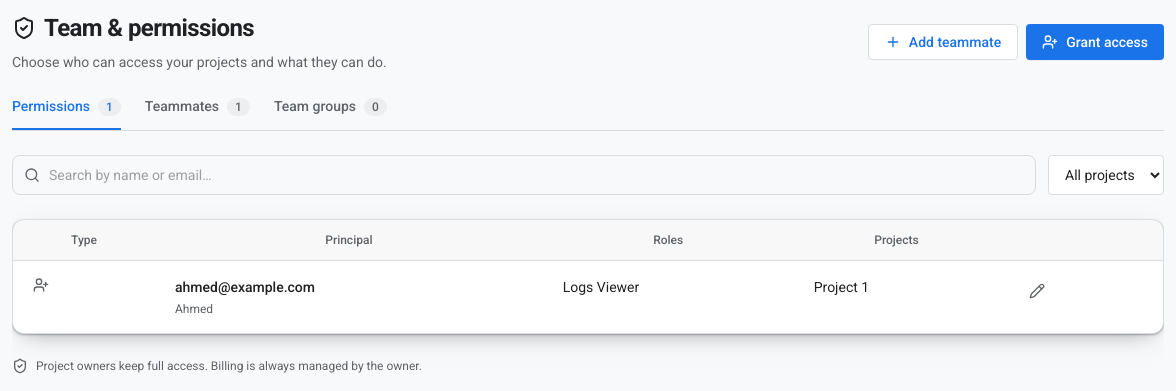
Scenario: Project Access › does not allow customer password resets for shared accounts
The width and height of the screenshot is (1176, 391).
Click the tab "Teammates1" at (197, 113), box [145, 96, 250, 130]
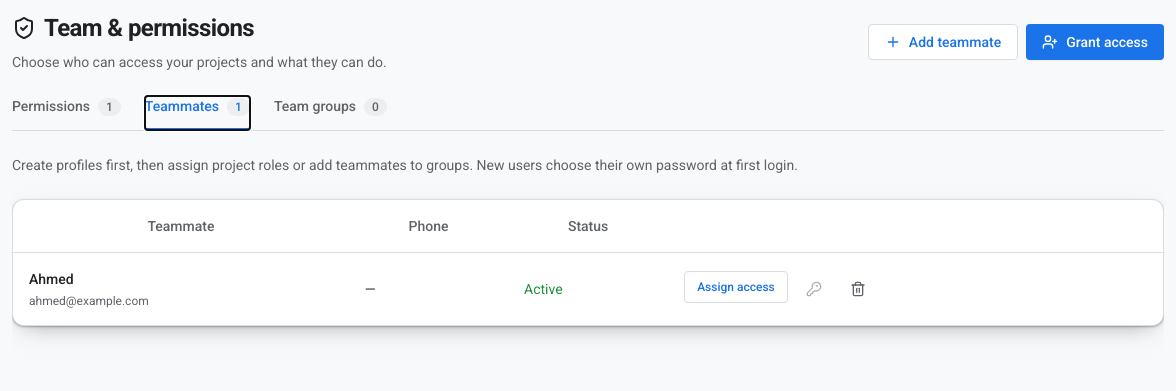
expect the button named "Remove teammate Ahmed" is enabled: met, box [840, 271, 876, 307]
expect the button named "Reset password for Ahmed" is disabled: met, box [796, 271, 832, 307]
